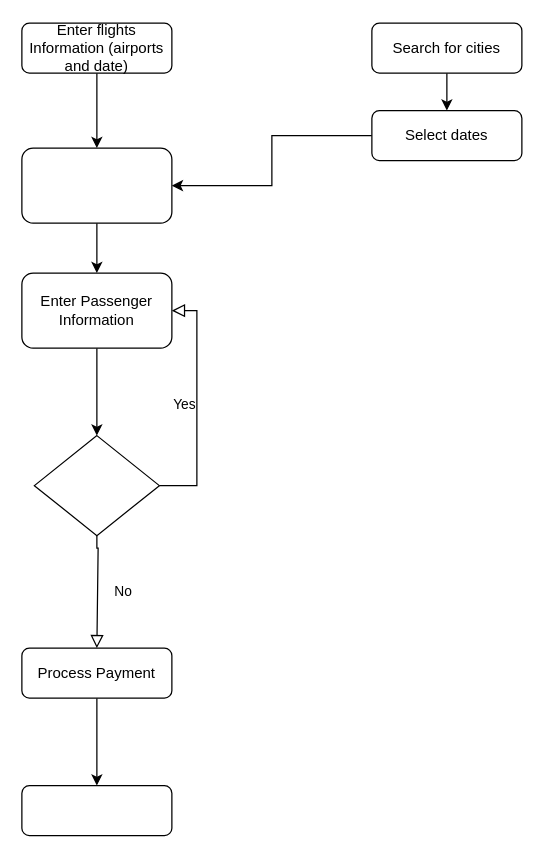
Some shapes in this 544 by 858 pixel diagram are drawn without their labels. The shapes that lost their labels are listed below. From the top down, each one's centre as x and y in pixels, then its label:
At [96,185]: "Select specific flight from list of possible flights".
At [96,485]: "Add another user".
At [96,810]: "Return to Main Page".
